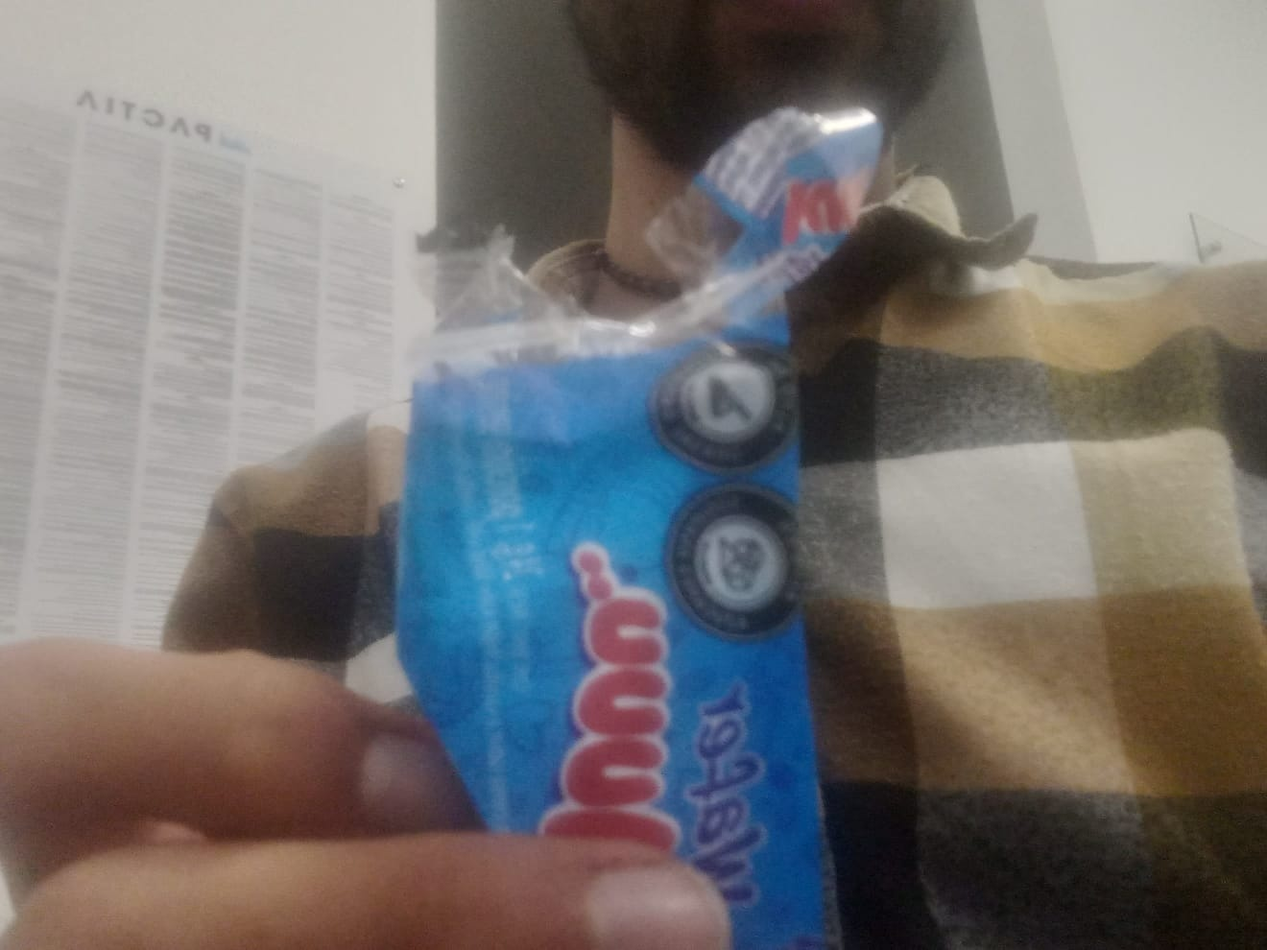Ordinario: (396, 113, 880, 950)
